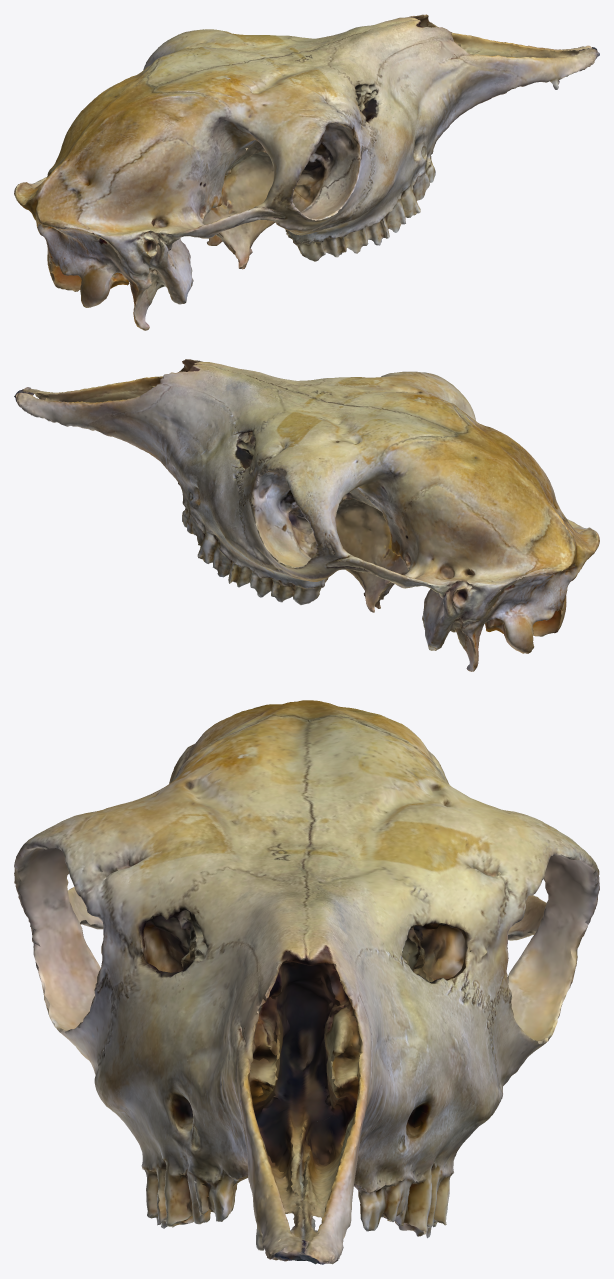
The model's file is lama3D.glb.
3 views of the same model, one above another, from view 1: azimuth 30°, elevation 25°; view 2: azimuth 150°, elevation 25°; view 3: azimuth 270°, elevation 25° (orthographic). The views are drawn at different scales.
Visible parts, largest first — view 1: Object_2, Object_3; view 2: Object_2, Object_3; view 3: Object_2, Object_3.
Part boxes in pixels (box(x1,y1,x2,y2)): Object_2: box(14, 14, 599, 330); Object_3: box(14, 33, 487, 328); Object_2: box(14, 359, 597, 671); Object_3: box(197, 392, 599, 653); Object_2: box(14, 700, 599, 1264); Object_3: box(55, 710, 577, 1225).
Bounding box in the file's own units: 10.86 × 4 × 5.1.
1 material, 1 textured.
